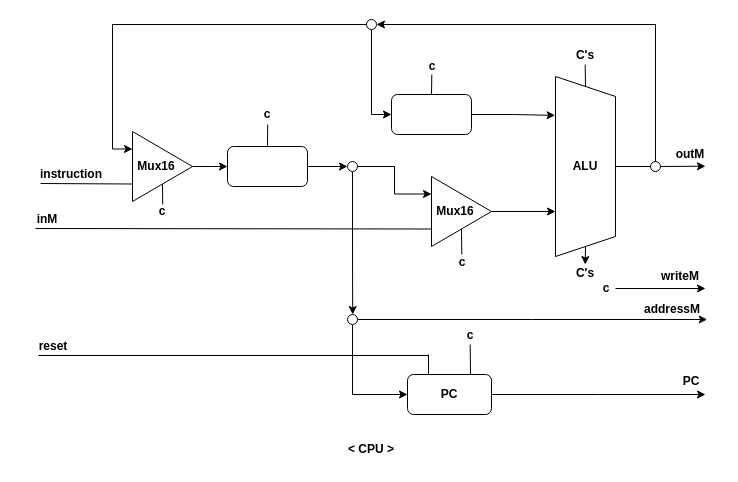
The diagram is 738 pixels wide and 482 high, and some of its shapes have lost their labels. Here are the shapes that lost their labels. From the top down, the box of each, then its label:
(390, 94, 472, 134): D Register
(226, 146, 308, 186): A Register
